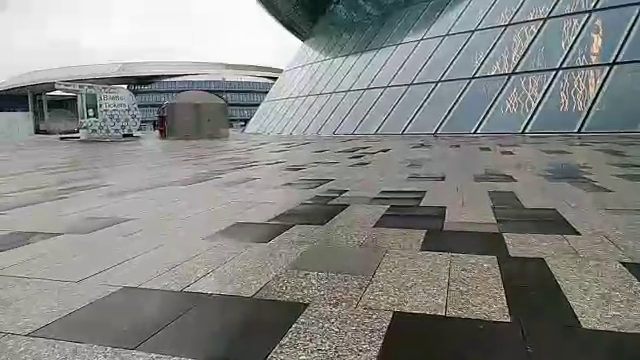kassa: (49, 77, 148, 145)
